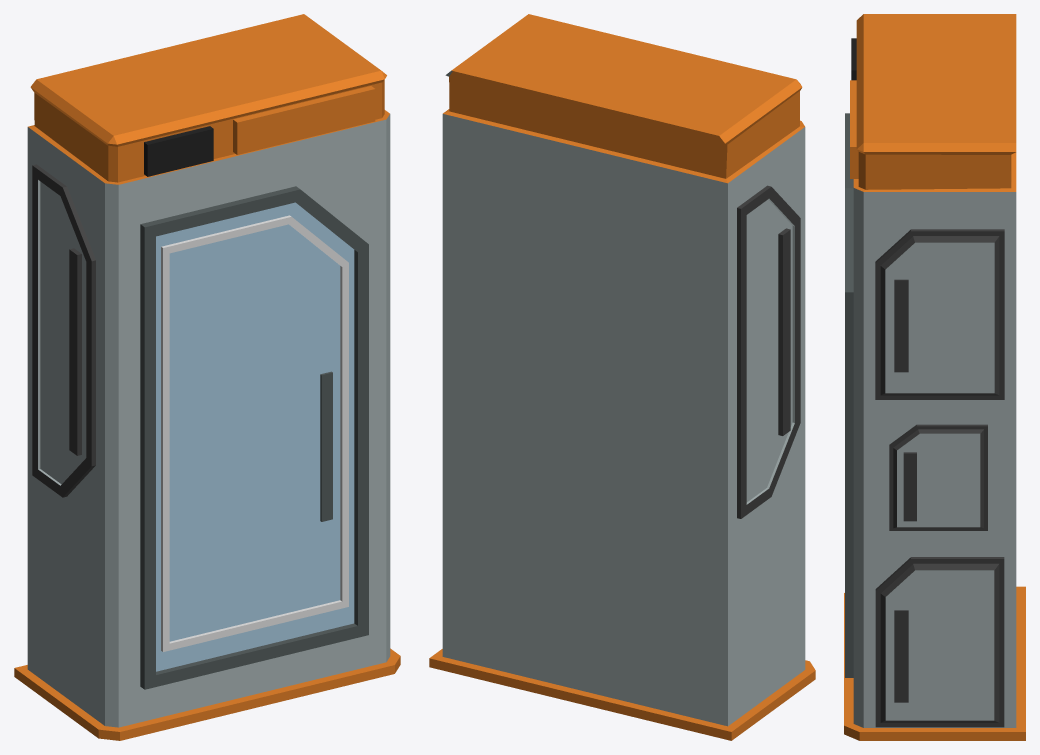
File: Livin-Room-2-Cabinet-2.fbx
3 renders of one model, left to right at view 1: azimuth 30°, elevation 25°; view 2: azimuth 150°, elevation 25°; view 3: azimuth 270°, elevation 25°, orthographic.
Parts seen in each view (by area): view 1: Livin-Room-2-Cabinet-2; view 2: Livin-Room-2-Cabinet-2; view 3: Livin-Room-2-Cabinet-2.
Boxes of the visible parts, box(x1,y1,x2,y2) form: Livin-Room-2-Cabinet-2: box(14, 14, 400, 740); Livin-Room-2-Cabinet-2: box(429, 14, 815, 740); Livin-Room-2-Cabinet-2: box(844, 14, 1025, 740).
Bounding box in the file's own units: 2.01 × 3.78 × 1.06.
